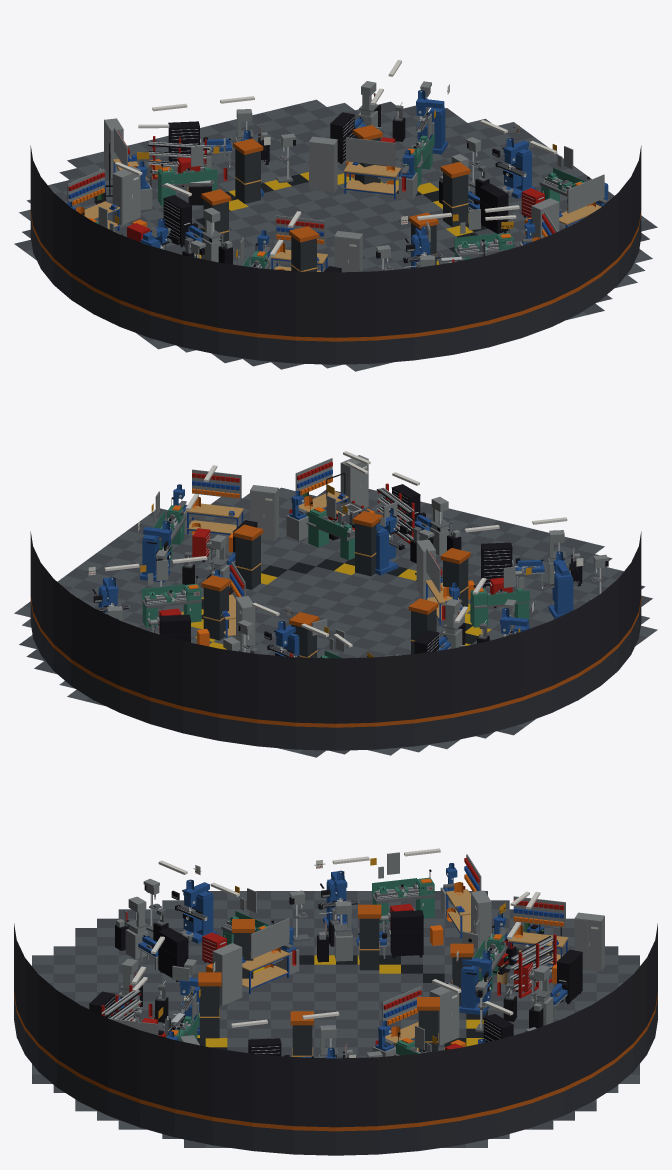
The model's file is arena_shop.glb.
3 views of the same model, one above another, from view 1: azimuth 30°, elevation 25°; view 2: azimuth 150°, elevation 25°; view 3: azimuth 270°, elevation 25° (orthographic). The views are drawn at different scales.
Visible parts, largest first — view 1: shop_c, shop_floor, shop_a, shop_b; view 2: shop_c, shop_floor, shop_a, shop_b; view 3: shop_c, shop_floor, shop_a, shop_b.
Part boxes in pixels (left/top/right/bottom): shop_c: left=30, top=60, right=641, bottom=364; shop_floor: left=14, top=99, right=657, bottom=371; shop_a: left=67, top=120, right=608, bottom=271; shop_b: left=94, top=96, right=557, bottom=270; shop_c: left=30, top=461, right=641, bottom=750; shop_floor: left=14, top=487, right=657, bottom=757; shop_a: left=137, top=465, right=534, bottom=657; shop_b: left=223, top=451, right=461, bottom=658; shop_c: left=14, top=860, right=657, bottom=1155; shop_floor: left=32, top=891, right=639, bottom=1147; shop_a: left=180, top=848, right=491, bottom=1058; shop_b: left=89, top=891, right=604, bottom=1040.
Size of the model in its own units: 72 by 12.3 by 72.
